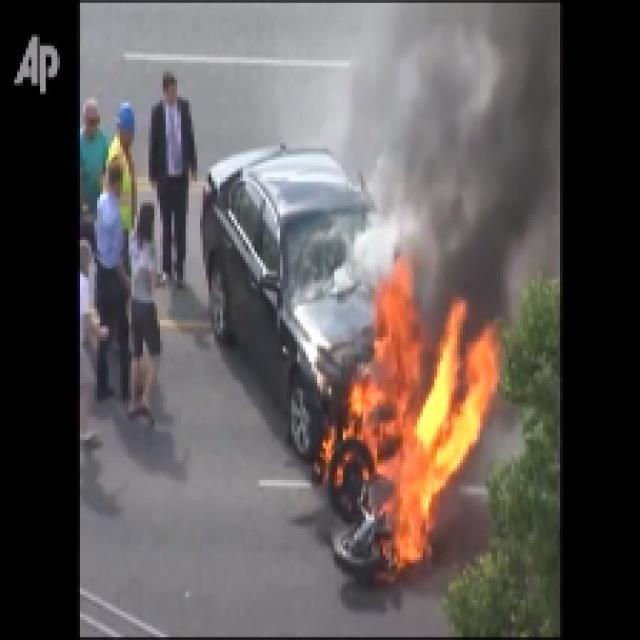Fire: (339, 285, 493, 565)
Smoke: (378, 7, 558, 266)
